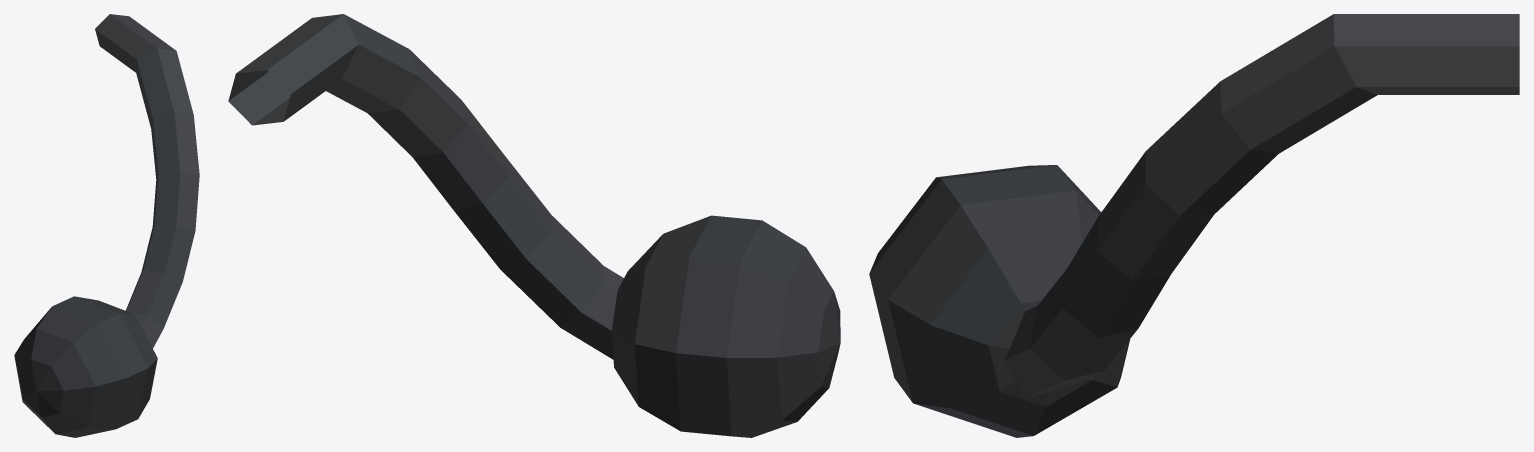
The model's file is SniperRifle1_04_4.fbx.
3 renders of one model, left to right at view 1: azimuth 30°, elevation 25°; view 2: azimuth 150°, elevation 25°; view 3: azimuth 270°, elevation 25°, orthographic. The views are drawn at different scales.
Parts seen in each view (by area): view 1: SniperRifle1_04_4; view 2: SniperRifle1_04_4; view 3: SniperRifle1_04_4.
Boxes of the visible parts, <box> form: SniperRifle1_04_4: <box>14,14,199,437</box>; SniperRifle1_04_4: <box>228,14,840,437</box>; SniperRifle1_04_4: <box>869,14,1519,437</box>.
Size of the model in its own units: 0.05 by 0.0566 by 0.0598.
